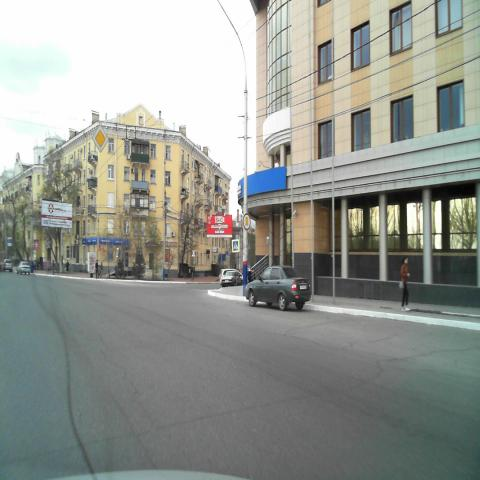3_32: (243, 213, 251, 230)
